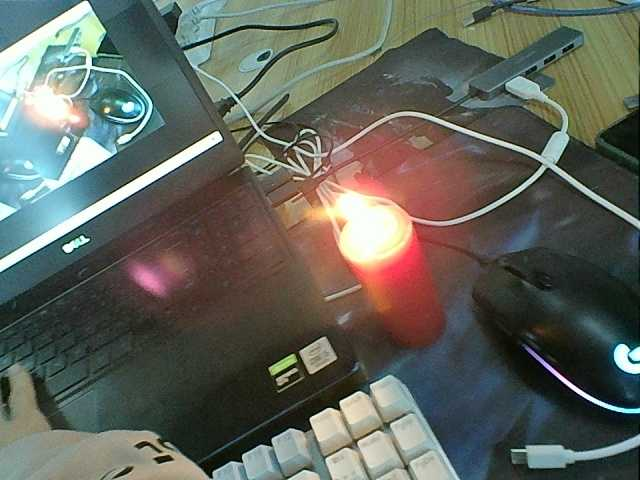candle: (329, 234, 461, 347), (66, 111, 94, 142)
fire: (337, 177, 398, 256), (19, 82, 67, 123)
